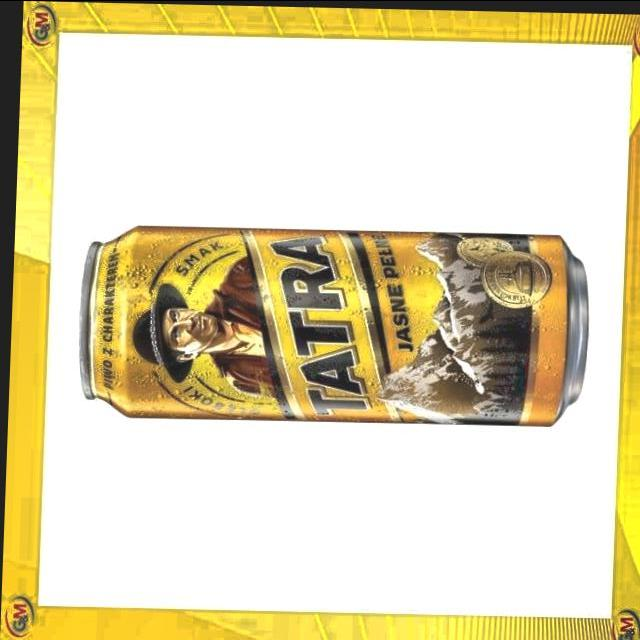litter: (70, 217, 596, 430)
